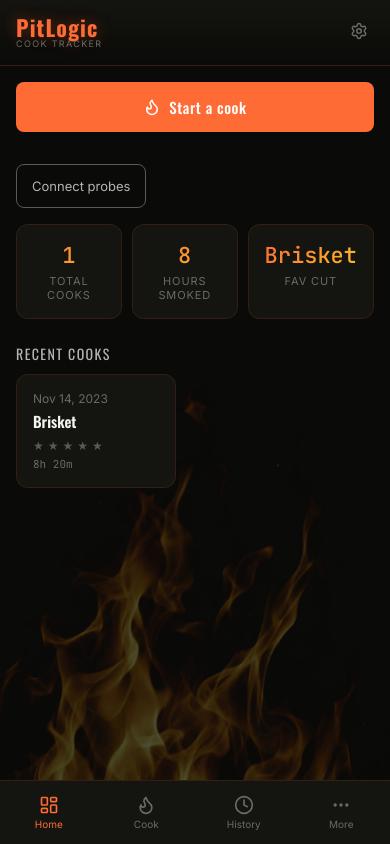
navigation from completed cook detail › shows History after leaving detail
Click the button "History" at (244, 812), box [195, 781, 292, 843]
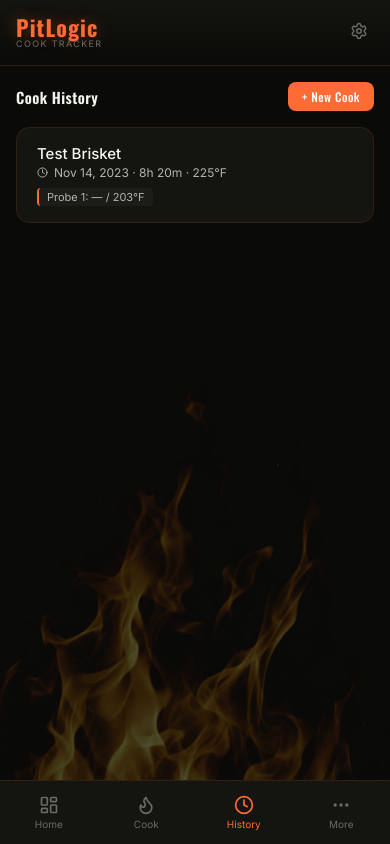
Click the button "Test Brisket" at (195, 175), box [16, 127, 374, 223]
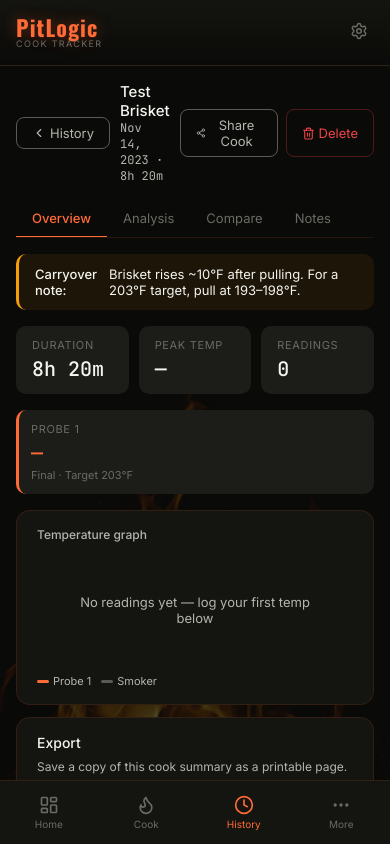
Result: the button "History" next to "Nov 14, 2023" is shown at [16, 117, 110, 149]
Click the 2nd button "History" at (244, 812), box [195, 781, 292, 843]
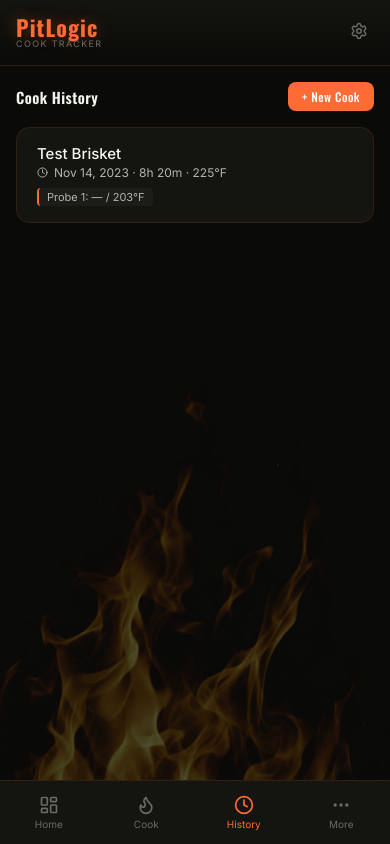
Result: the element that starts with "Cook History" is shown at [16, 86, 98, 108]
Result: the button "Test Brisket" is shown at [16, 127, 374, 223]
